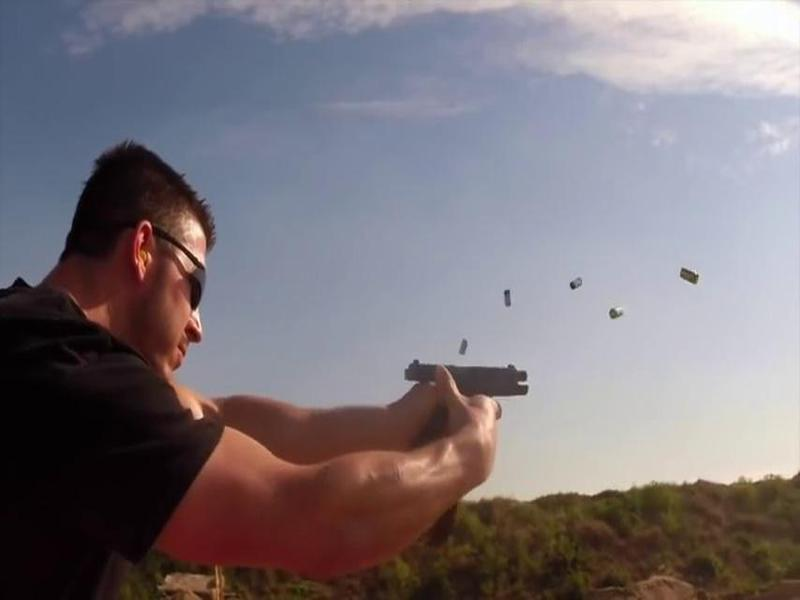Pistola: (417, 343, 561, 451)
